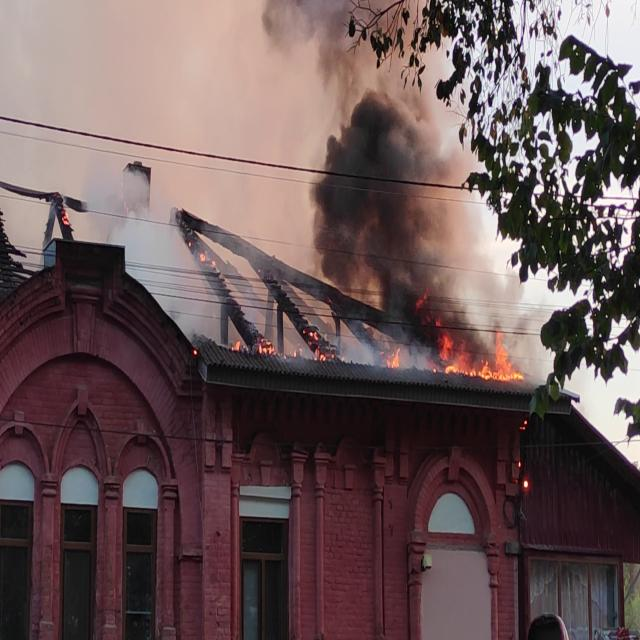fire: (429, 305, 530, 386)
smoke: (321, 84, 429, 294)
